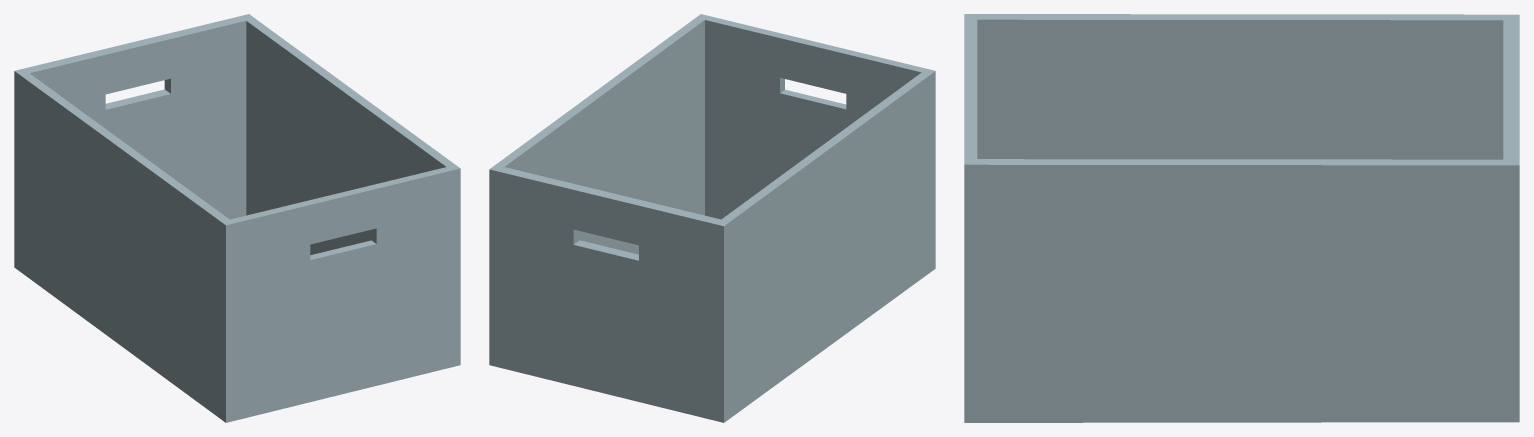
Rendered from warehouse_036.glb.
3 views of the same model, side by side, from view 1: azimuth 30°, elevation 25°; view 2: azimuth 150°, elevation 25°; view 3: azimuth 270°, elevation 25° (orthographic). The views are drawn at different scales.
Visible parts, largest first — view 1: warehouse_036; view 2: warehouse_036; view 3: warehouse_036.
Part boxes in pixels (box(x1,y1,x2,y2)): warehouse_036: box(14, 14, 460, 422); warehouse_036: box(489, 14, 935, 422); warehouse_036: box(964, 14, 1519, 422).
Size of the model in its own units: 0.418 by 0.3363 by 0.6528.
1 material, 1 textured.
